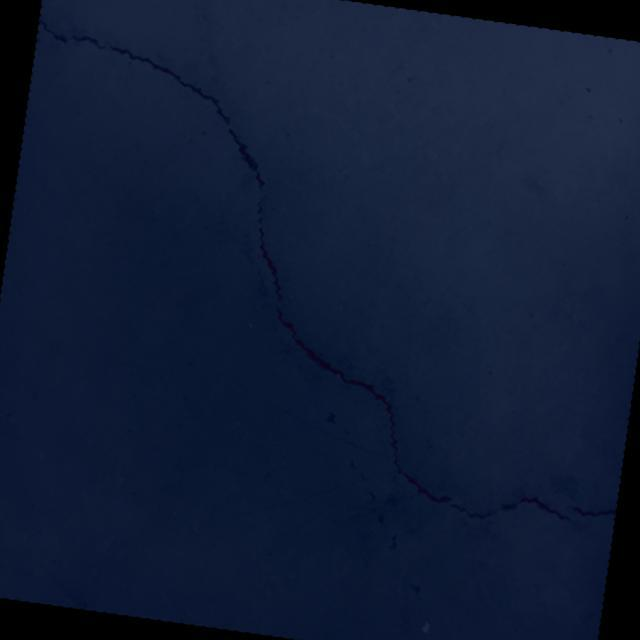crack: (0, 15, 640, 538)
